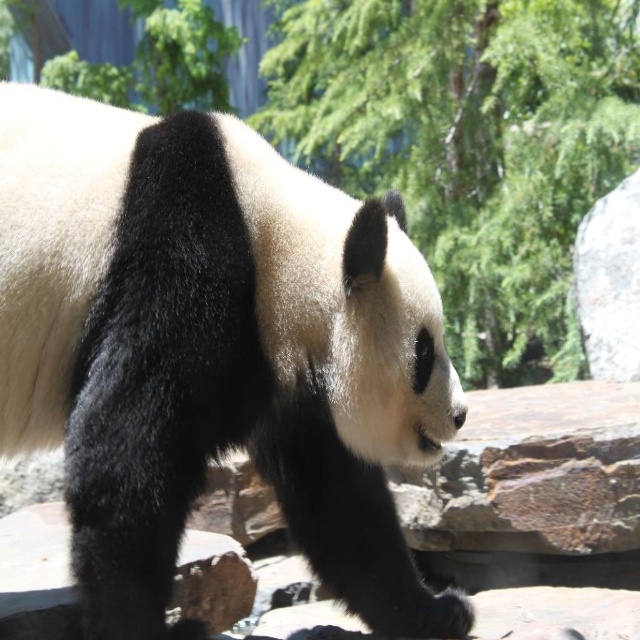Panda: (0, 77, 476, 639)
